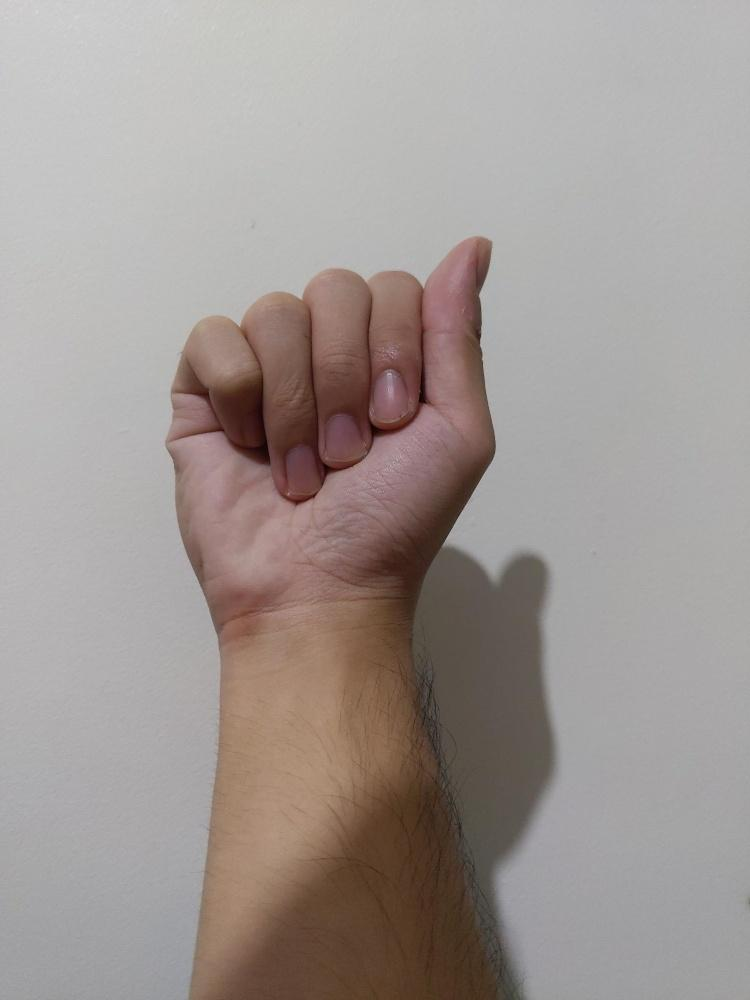a: (162, 233, 498, 630)
